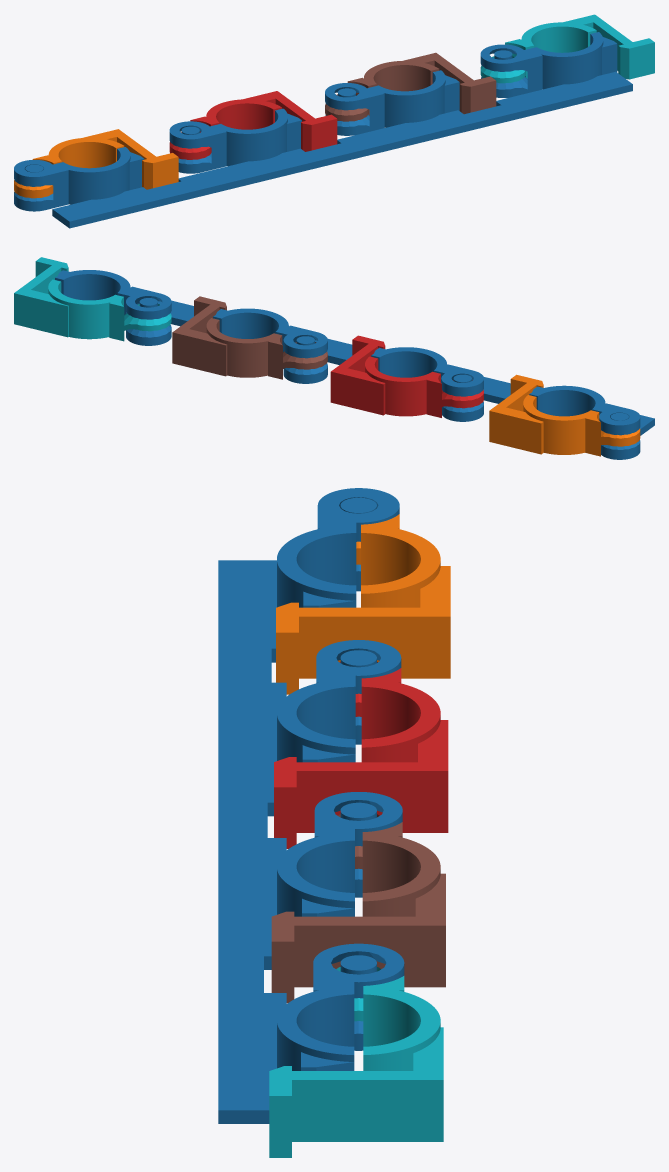
The model's file is clamp-gap-strip.glb.
3 views of the same model, one above another, from view 1: azimuth 30°, elevation 25°; view 2: azimuth 150°, elevation 25°; view 3: azimuth 270°, elevation 25° (orthographic). The views are drawn at different scales.
Parts seen in each view (by area): view 1: strip, door-0-60, door-0-50, door-0-40, door-0-30; view 2: strip, door-0-60, door-0-40, door-0-50, door-0-30; view 3: strip, door-0-60, door-0-30, door-0-40, door-0-50.
Boxes of the visible parts, x1=… form: strip: x1=14, y1=32, x2=632, y2=228; door-0-60: x1=480, y1=14, x2=654, y2=83; door-0-50: x1=325, y1=52, x2=496, y2=121; door-0-40: x1=169, y1=91, x2=337, y2=159; door-0-30: x1=14, y1=129, x2=178, y2=198; strip: x1=55, y1=270, x2=654, y2=459; door-0-60: x1=14, y1=257, x2=171, y2=341; door-0-40: x1=330, y1=335, x2=483, y2=417; door-0-50: x1=172, y1=296, x2=327, y2=379; door-0-30: x1=489, y1=374, x2=640, y2=456; strip: x1=218, y1=488, x2=404, y2=1123; door-0-60: x1=269, y1=967, x2=443, y2=1157; door-0-30: x1=276, y1=514, x2=450, y2=694; door-0-40: x1=274, y1=662, x2=448, y2=848; door-0-50: x1=271, y1=814, x2=445, y2=1003.
Bounding box in the file's own units: 0.0938 × 0.005 × 0.0153.
